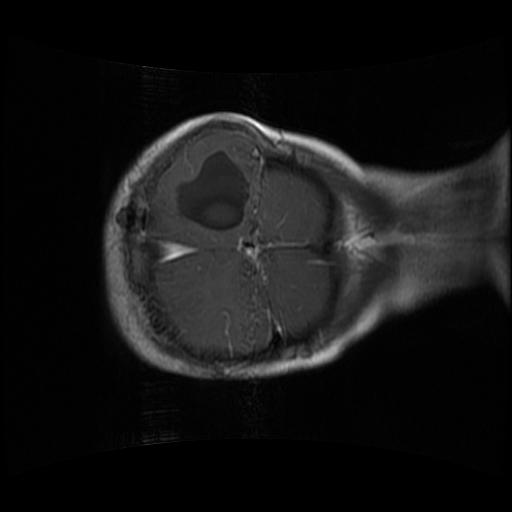glioma: (172, 148, 252, 235)
